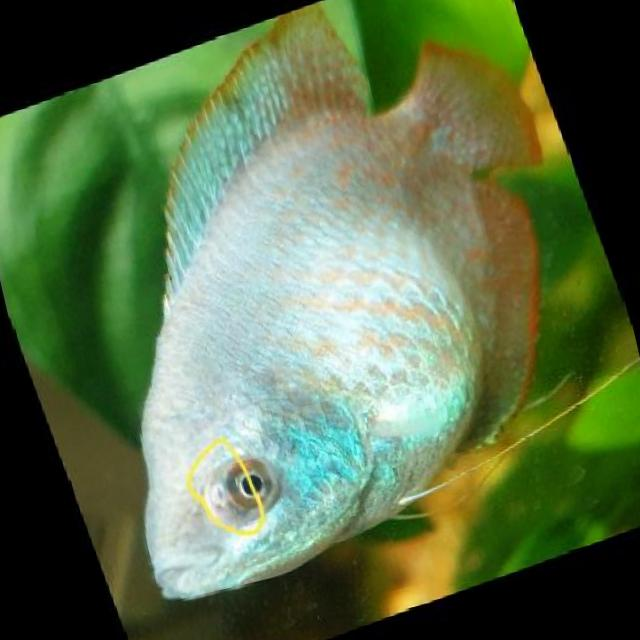Gourami: (31, 0, 622, 605)
